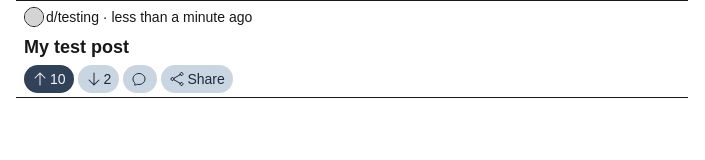
Test: Post Component — Upvote/Downvote › switches from upvoted to downvoted correctly
The width and height of the screenshot is (705, 160).
Click the button "2": {"x": 98, "y": 79} x1=78 y1=65 x2=119 y2=93
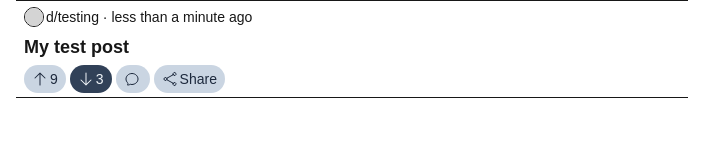
Now the text "9" is shown, box x1=50 y1=69 x2=58 y2=89
Now the text "3" is shown, box x1=96 y1=69 x2=104 y2=89
